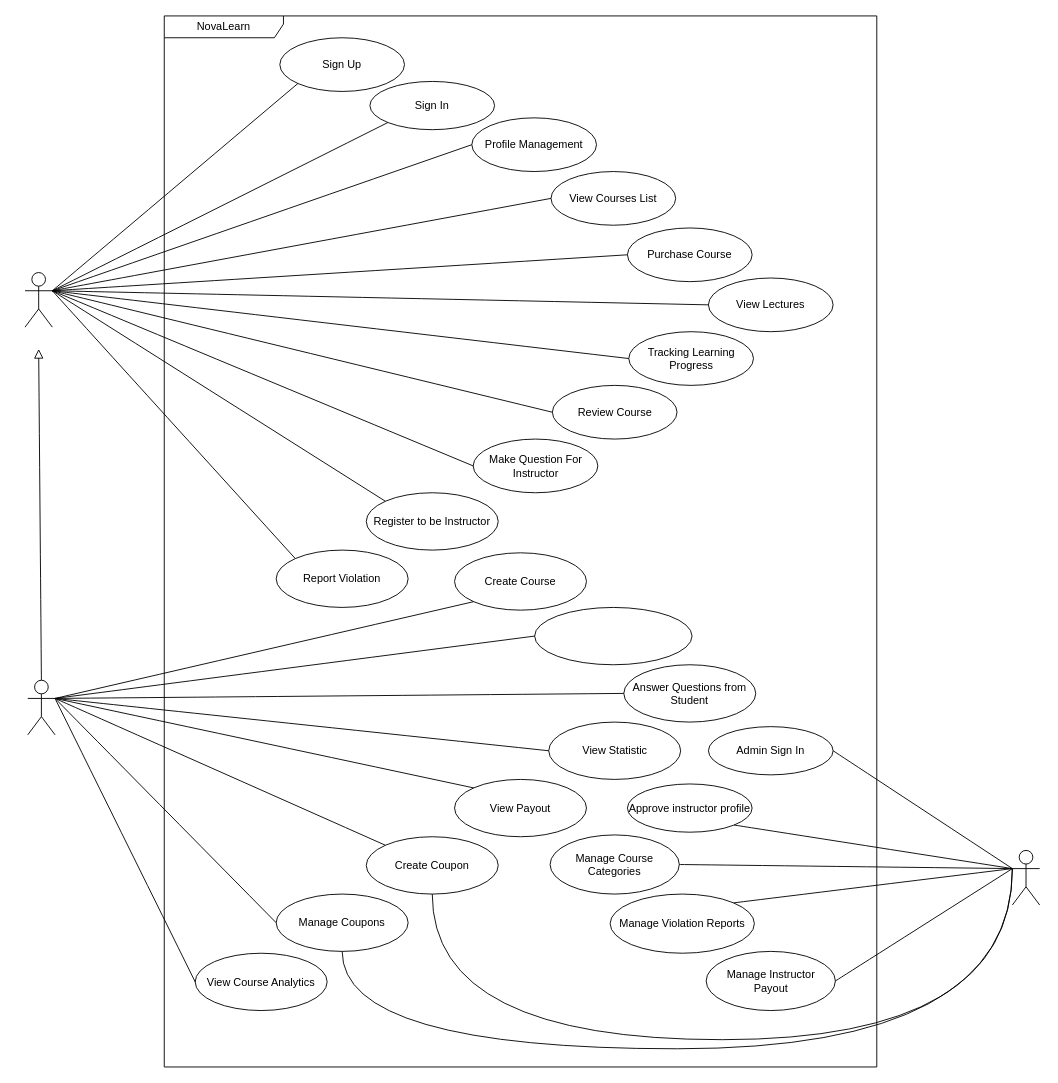
The diagram is 1058 pixels wide and 1083 high, and some of its shapes have lost their labels. Here are the shapes that lost their labels. From the top down, the centre of each, then its label:
At (x=38, y=299): "Student".
At (x=613, y=636): "Add/ Edit Courses".
At (x=41, y=707): "Instructor".
At (x=1025, y=877): "Admin".
